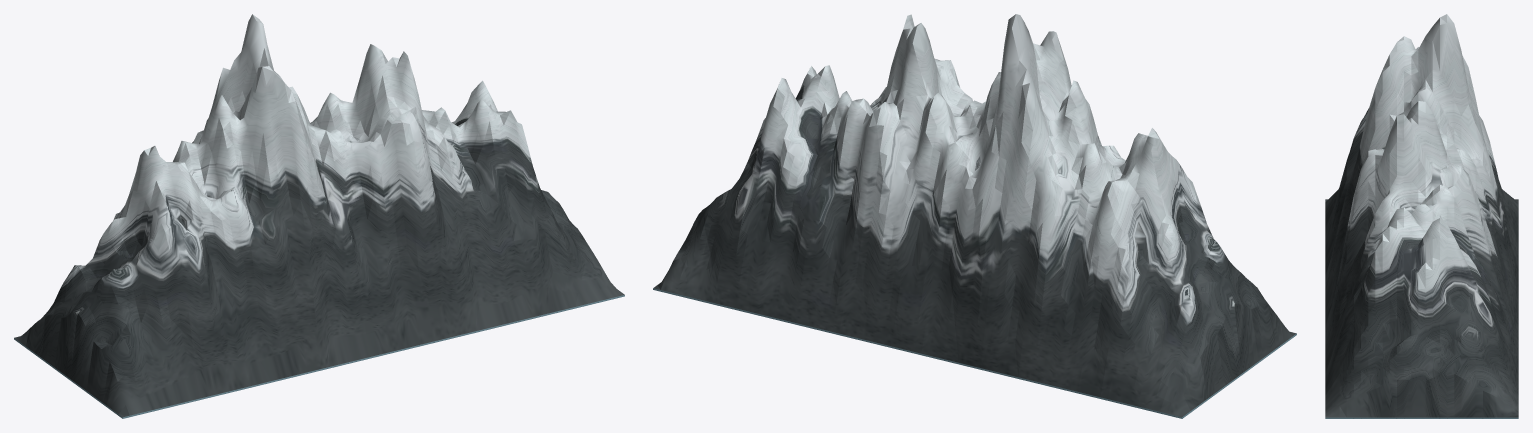
File: fjord_cliff_wall.glb
The picture shows the model from 3 angles, left to right: view 1: azimuth 30°, elevation 25°; view 2: azimuth 150°, elevation 25°; view 3: azimuth 270°, elevation 25°; orthographic projection. The views are drawn at different scales.
Parts seen in each view (by area): view 1: fjord_cliff_wall; view 2: fjord_cliff_wall; view 3: fjord_cliff_wall.
Part boxes in pixels (x1,y1,x2,y2): fjord_cliff_wall: (14,14,624,418); fjord_cliff_wall: (653,14,1296,418); fjord_cliff_wall: (1325,14,1518,418).
Size of the model in its own units: 48 by 28 by 18.
1 material, 1 textured.
